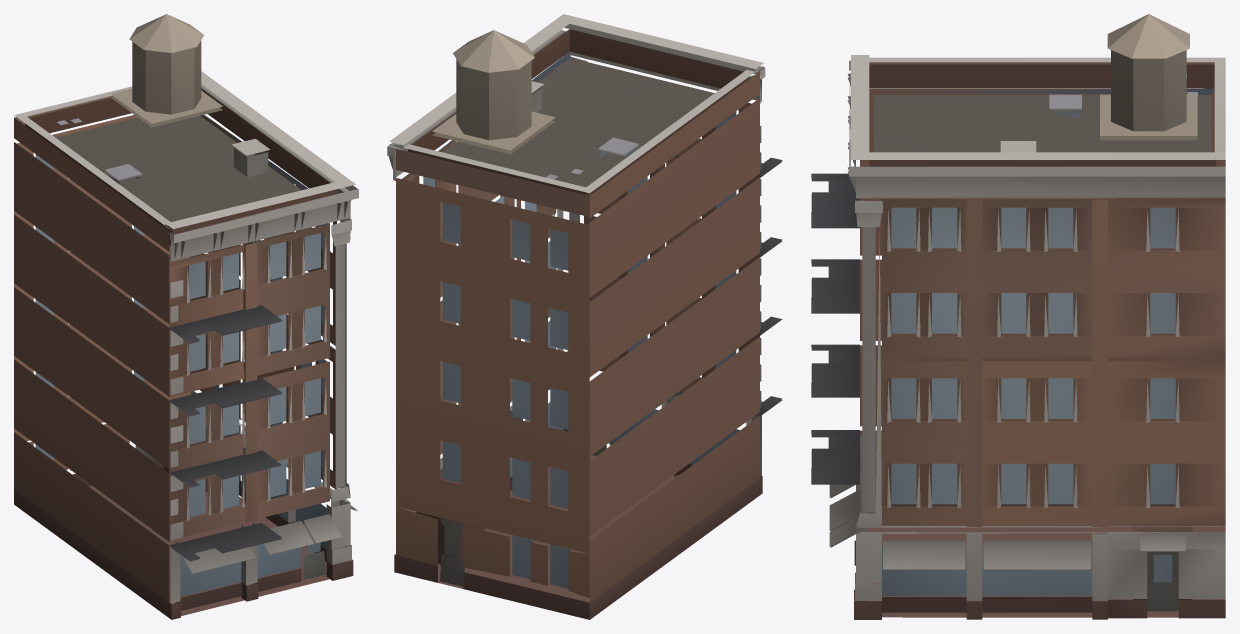
The model's file is cornerten.lod.glb.
3 renders of one model, left to right at view 1: azimuth 30°, elevation 25°; view 2: azimuth 150°, elevation 25°; view 3: azimuth 270°, elevation 25°, orthographic. The views are drawn at different scales.
Parts seen in each view (by area): view 1: cornerten; view 2: cornerten; view 3: cornerten.
Part boxes in pixels (x1,y1,x2,y2): cornerten: (14,14,358,619); cornerten: (387,14,782,619); cornerten: (811,14,1225,619).
Bounding box in the file's own units: 8.61 × 20.06 × 13.2.
